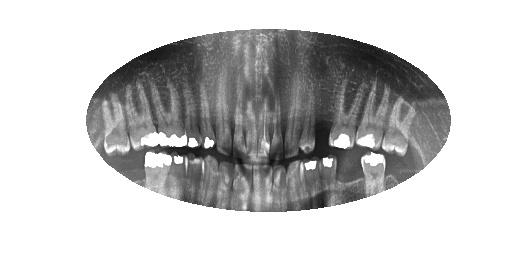i10healthy: (215, 152, 235, 211)
i11healthy: (196, 151, 221, 209)
i12healthy: (181, 145, 204, 204)
i13healthy: (165, 147, 190, 199)
i14healthy: (137, 144, 175, 201)
i2healthy: (358, 146, 389, 194)
i3loss: (334, 150, 366, 202)
i4healthy: (313, 143, 342, 202)
i5healthy: (299, 151, 322, 214)
i6healthy: (281, 152, 307, 211)
i7healthy: (265, 158, 289, 212)
i8decay: (250, 156, 274, 213)
i9decay: (231, 154, 253, 213)
u10healthy: (229, 88, 251, 162)
u11decay: (211, 71, 237, 157)
u12healthy: (195, 77, 220, 152)
u13healthy: (179, 73, 203, 152)
u14healthy: (148, 72, 189, 151)
u15healthy: (124, 82, 156, 151)
u16healthy: (97, 91, 132, 157)
u1healthy: (379, 85, 420, 156)
u2healthy: (352, 73, 392, 154)
u3healthy: (326, 61, 370, 157)
u4loss: (312, 58, 343, 149)
u5healthy: (295, 69, 318, 157)
u6healthy: (282, 90, 306, 161)
u7healthy: (264, 94, 288, 164)
u8healthy: (251, 91, 272, 160)
u9healthy: (242, 92, 261, 162)
